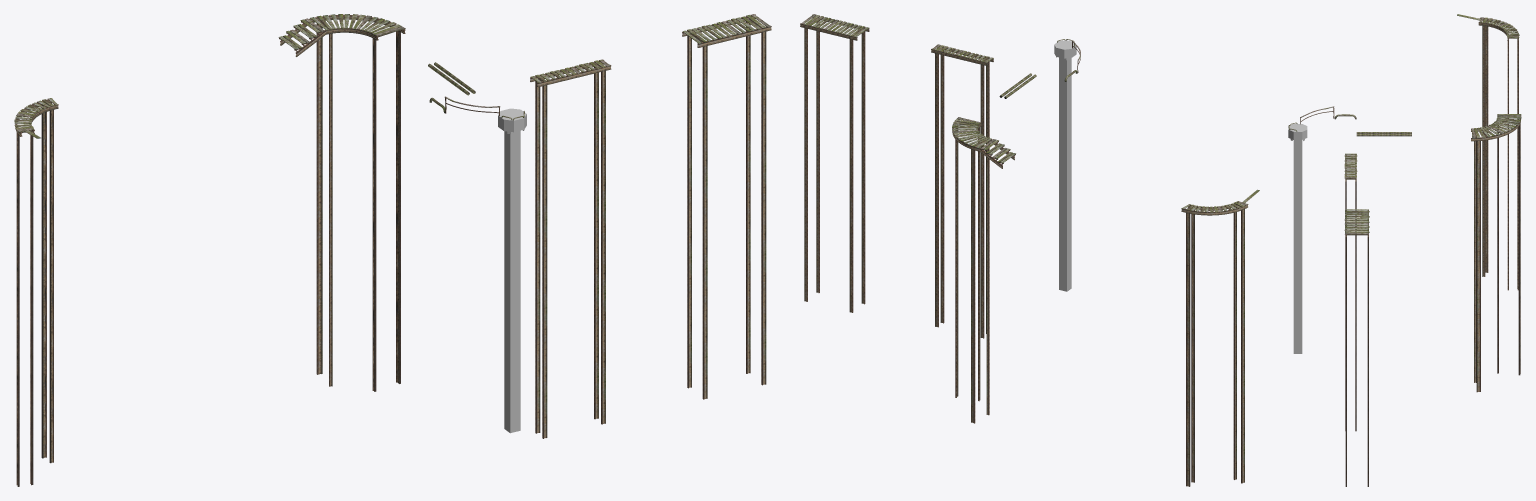
3 renders of one model, left to right at view 1: azimuth 30°, elevation 25°; view 2: azimuth 150°, elevation 25°; view 3: azimuth 270°, elevation 25°, orthographic. The views are drawn at different scales.
Visible parts, largest first — view 1: ramp, ramp.009, ramp.004, ramp.015, hakkero, ramp.010; view 2: ramp, ramp.015, ramp.009, ramp.004, hakkero, ramp.010; view 3: ramp.009, ramp.015, hakkero, ramp, ramp.004, pipe.001.
Boxes of the visible parts, x1,y1,x2,y2 form: ramp: [682, 14, 771, 399]; ramp.009: [310, 14, 405, 391]; ramp.004: [530, 59, 611, 438]; ramp.015: [14, 98, 58, 486]; hakkero: [498, 108, 526, 433]; ramp.010: [278, 18, 325, 56]; ramp: [800, 14, 869, 312]; ramp.015: [1181, 201, 1248, 486]; ramp.009: [952, 117, 991, 423]; ramp.004: [931, 44, 993, 338]; hakkero: [1054, 40, 1076, 291]; ramp.010: [979, 139, 1015, 168]; ramp.009: [1471, 117, 1521, 392]; ramp.015: [1478, 17, 1519, 290]; hakkero: [1288, 124, 1307, 353]; ramp: [1344, 209, 1369, 486]; ramp.004: [1344, 153, 1357, 431]; pipe.001: [1356, 132, 1411, 136].
Size of the model in its own units: 4485 by 2539 by 1935.
